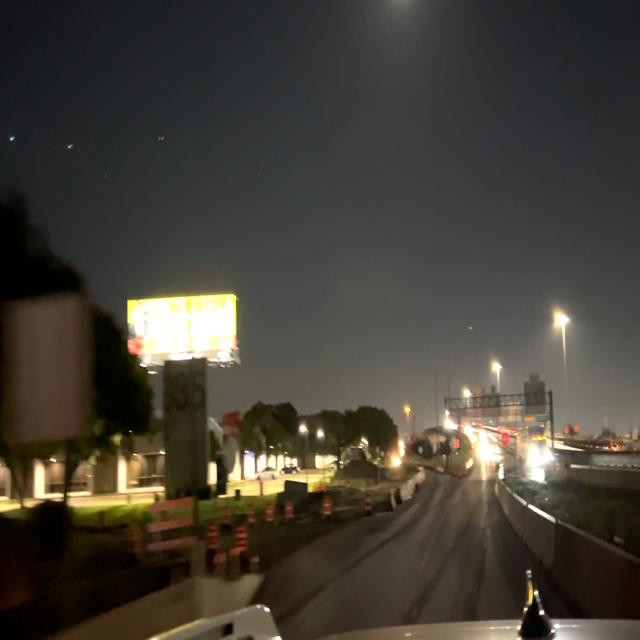back-of-sign: (471, 381, 503, 422), (522, 368, 548, 417)
